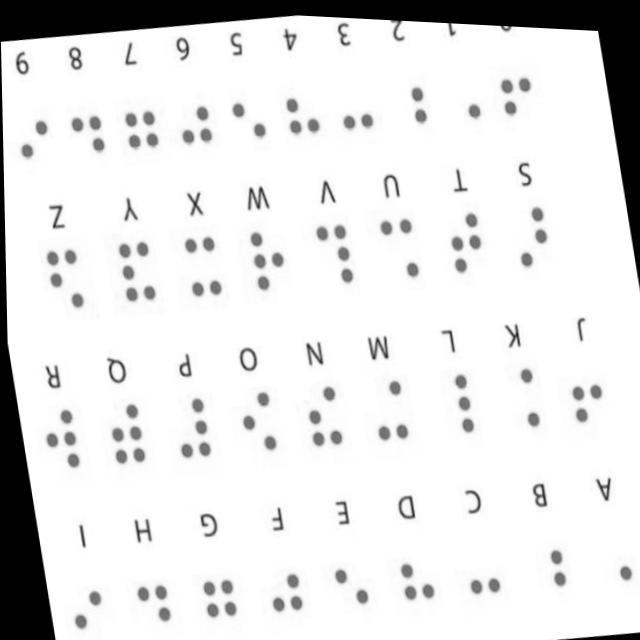braiile: (366, 192, 430, 291), (184, 535, 246, 636), (352, 356, 415, 451), (422, 347, 483, 445), (382, 519, 445, 612), (501, 182, 563, 276), (303, 202, 365, 296), (253, 531, 314, 626), (117, 542, 177, 637), (161, 376, 221, 471), (35, 228, 96, 321), (318, 523, 378, 617), (239, 209, 299, 303), (225, 370, 286, 462), (435, 188, 493, 284), (449, 513, 509, 605), (515, 506, 576, 596), (173, 217, 232, 309), (55, 550, 115, 640), (492, 343, 550, 436), (293, 363, 351, 456), (94, 383, 152, 475), (107, 220, 165, 312), (581, 498, 640, 588), (557, 342, 613, 429), (34, 392, 88, 479)
